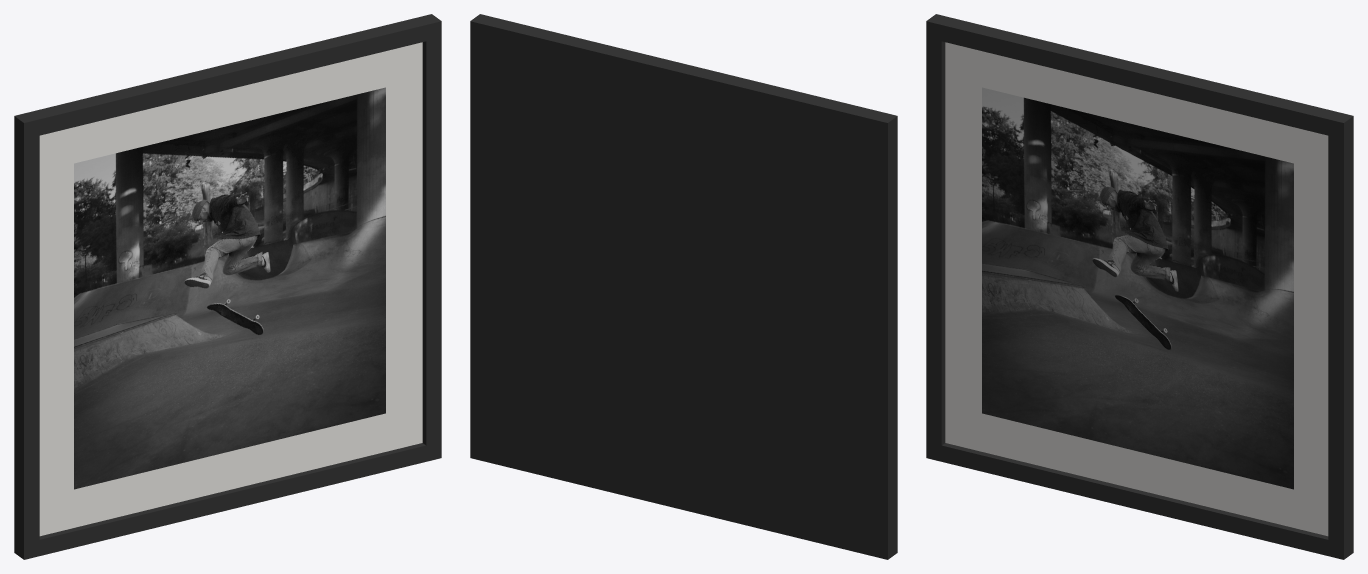
File: kickflip-40.gltf
3 views of the same model, side by side, from view 1: azimuth 30°, elevation 25°; view 2: azimuth 150°, elevation 25°; view 3: azimuth 330°, elevation 25° (orthographic).
Parts seen in each view (by area): view 1: tavla; view 2: tavla; view 3: tavla.
Boxes of the visible parts, left/top/right/bottom form: tavla: left=14, top=14, right=441, bottom=559; tavla: left=470, top=14, right=897, bottom=559; tavla: left=926, top=14, right=1353, bottom=559.
Bounding box in the file's own units: 0.5359 × 0.5356 × 0.022.
3 materials, 1 textured.
